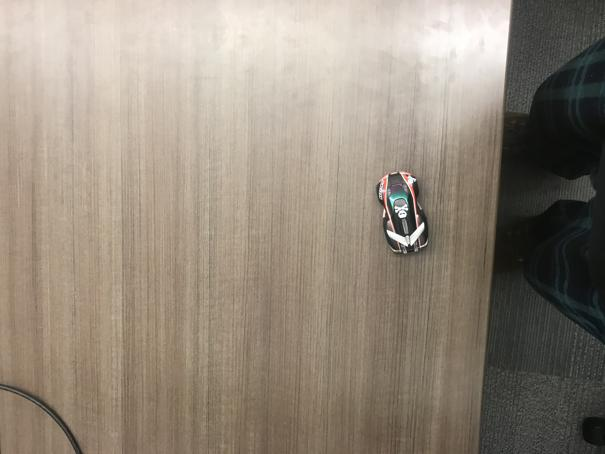Skull: (375, 170, 432, 256)
